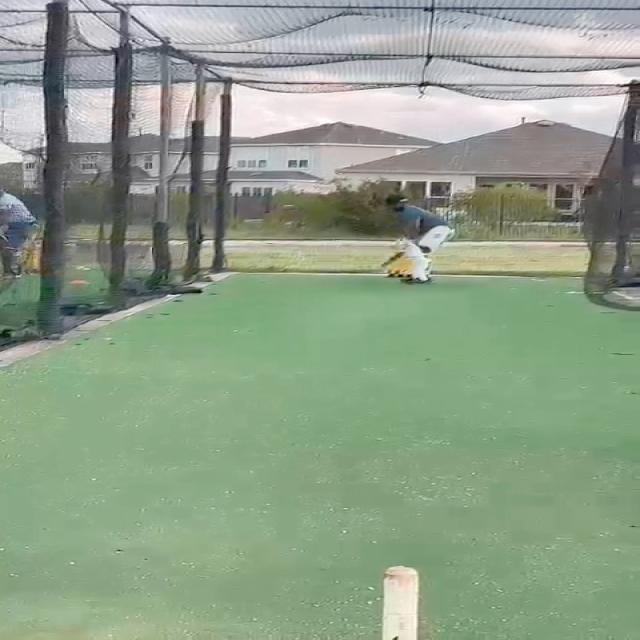batsman: (379, 193, 458, 285)
